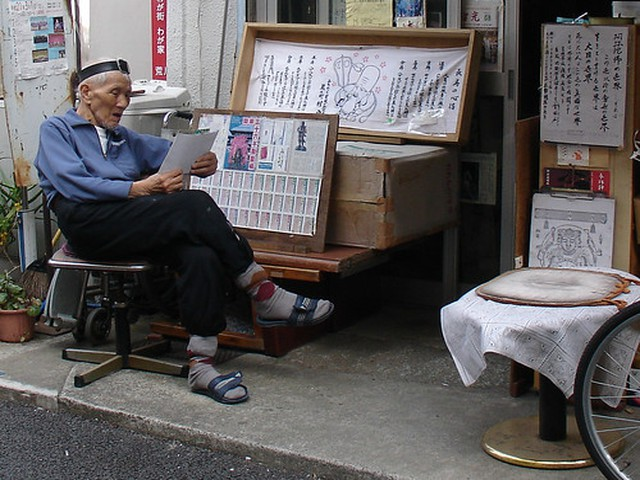Person: (34, 56, 288, 426)
